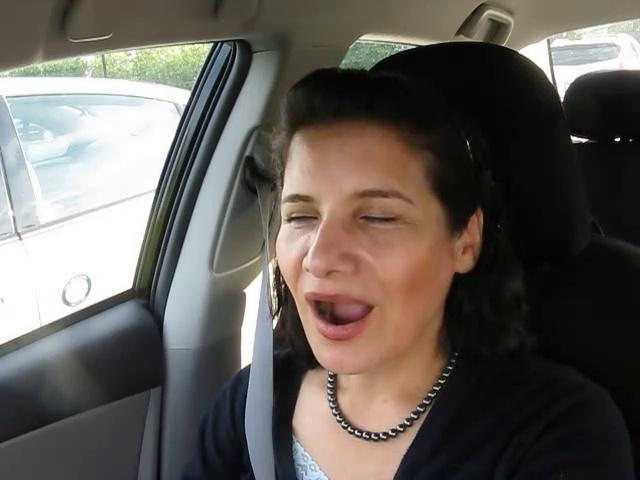close_eyeL: (271, 199, 328, 237)
close_eyeR: (336, 195, 420, 242)
yawn: (294, 280, 391, 347)
